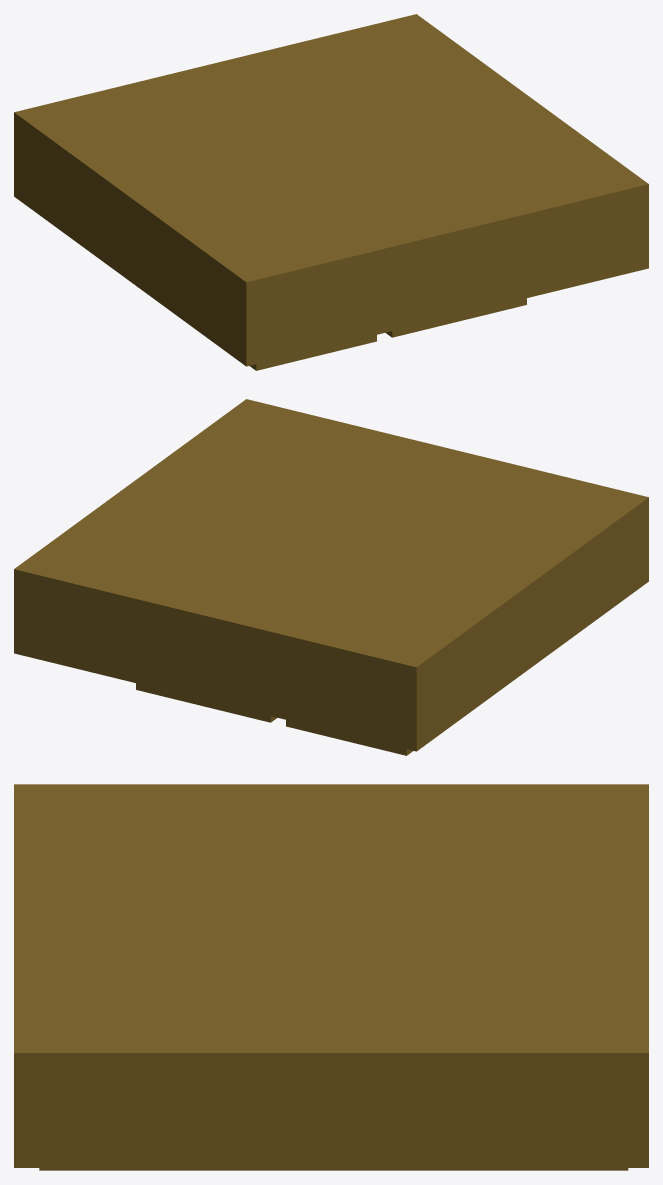
Rendered from roof wood.fbx.
3 renders of one model, top to bottom at view 1: azimuth 30°, elevation 25°; view 2: azimuth 150°, elevation 25°; view 3: azimuth 270°, elevation 25°, orthographic. The views are drawn at different scales.
Visible parts, largest first — view 1: roof wood; view 2: roof wood; view 3: roof wood.
Part boxes in pixels (x1,y1,x2,y2): roof wood: [14, 14, 648, 370]; roof wood: [14, 399, 648, 755]; roof wood: [14, 784, 648, 1170].
Bounding box in the file's own units: 500 × 108 × 500.
